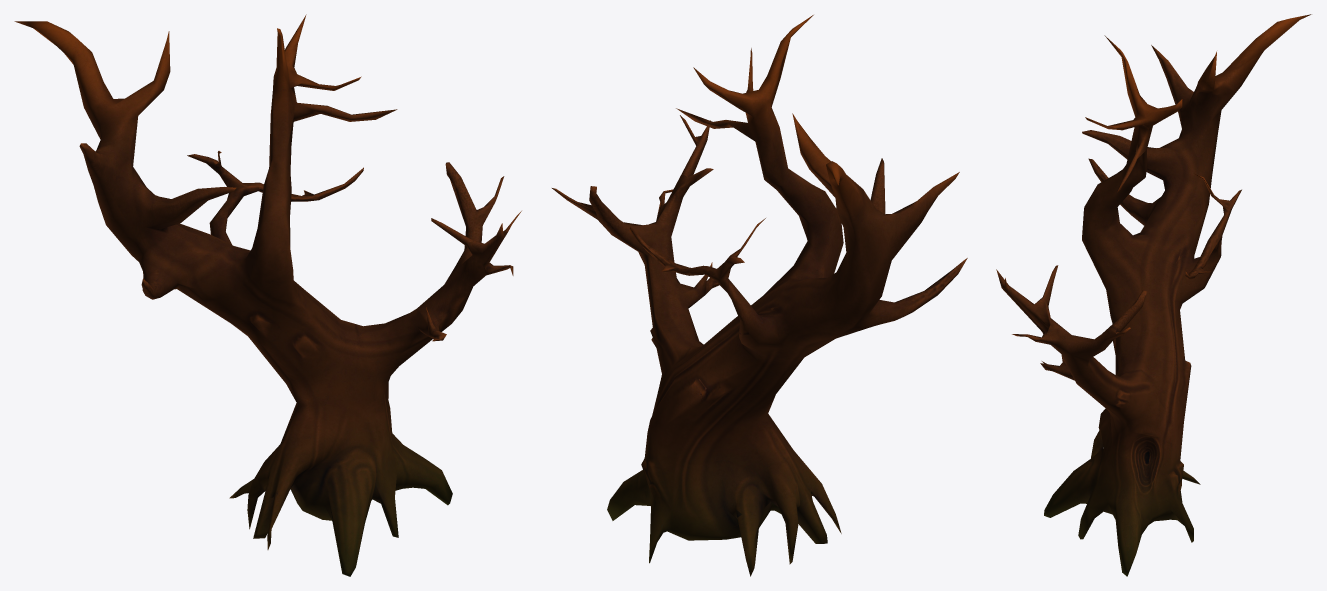
File: arbol2.fbx
The picture shows the model from 3 angles, left to right: view 1: azimuth 30°, elevation 25°; view 2: azimuth 150°, elevation 25°; view 3: azimuth 270°, elevation 25°; orthographic projection. The views are drawn at different scales.
Visible parts, largest first — view 1: tree2; view 2: tree2; view 3: tree2.
Part boxes in pixels (x1=…): tree2: x1=14, y1=14, x2=521, y2=576; tree2: x1=552, y1=15, x2=967, y2=576; tree2: x1=996, y1=14, x2=1311, y2=576.
Bounding box in the file's own units: 425 × 525 × 324.
